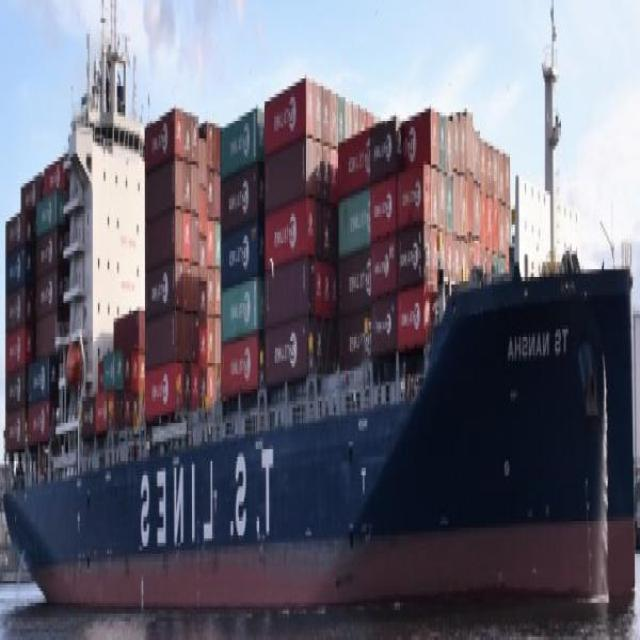Container Ship: (2, 3, 635, 609)
